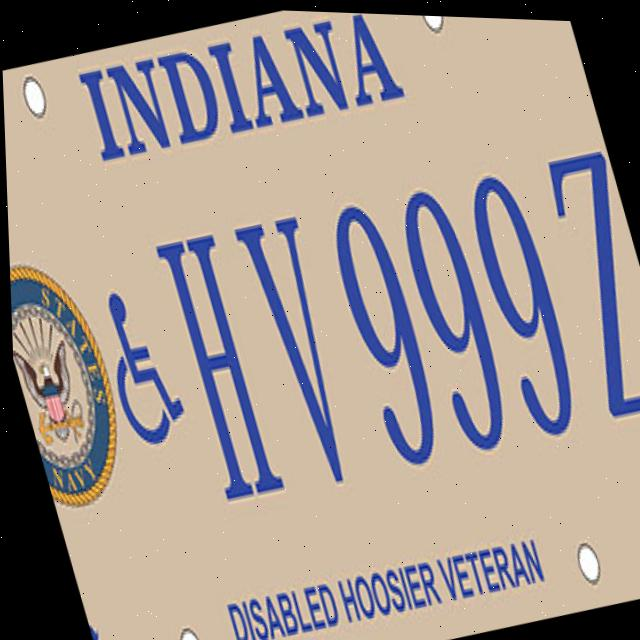symbol_of_access: (86, 273, 194, 461)
